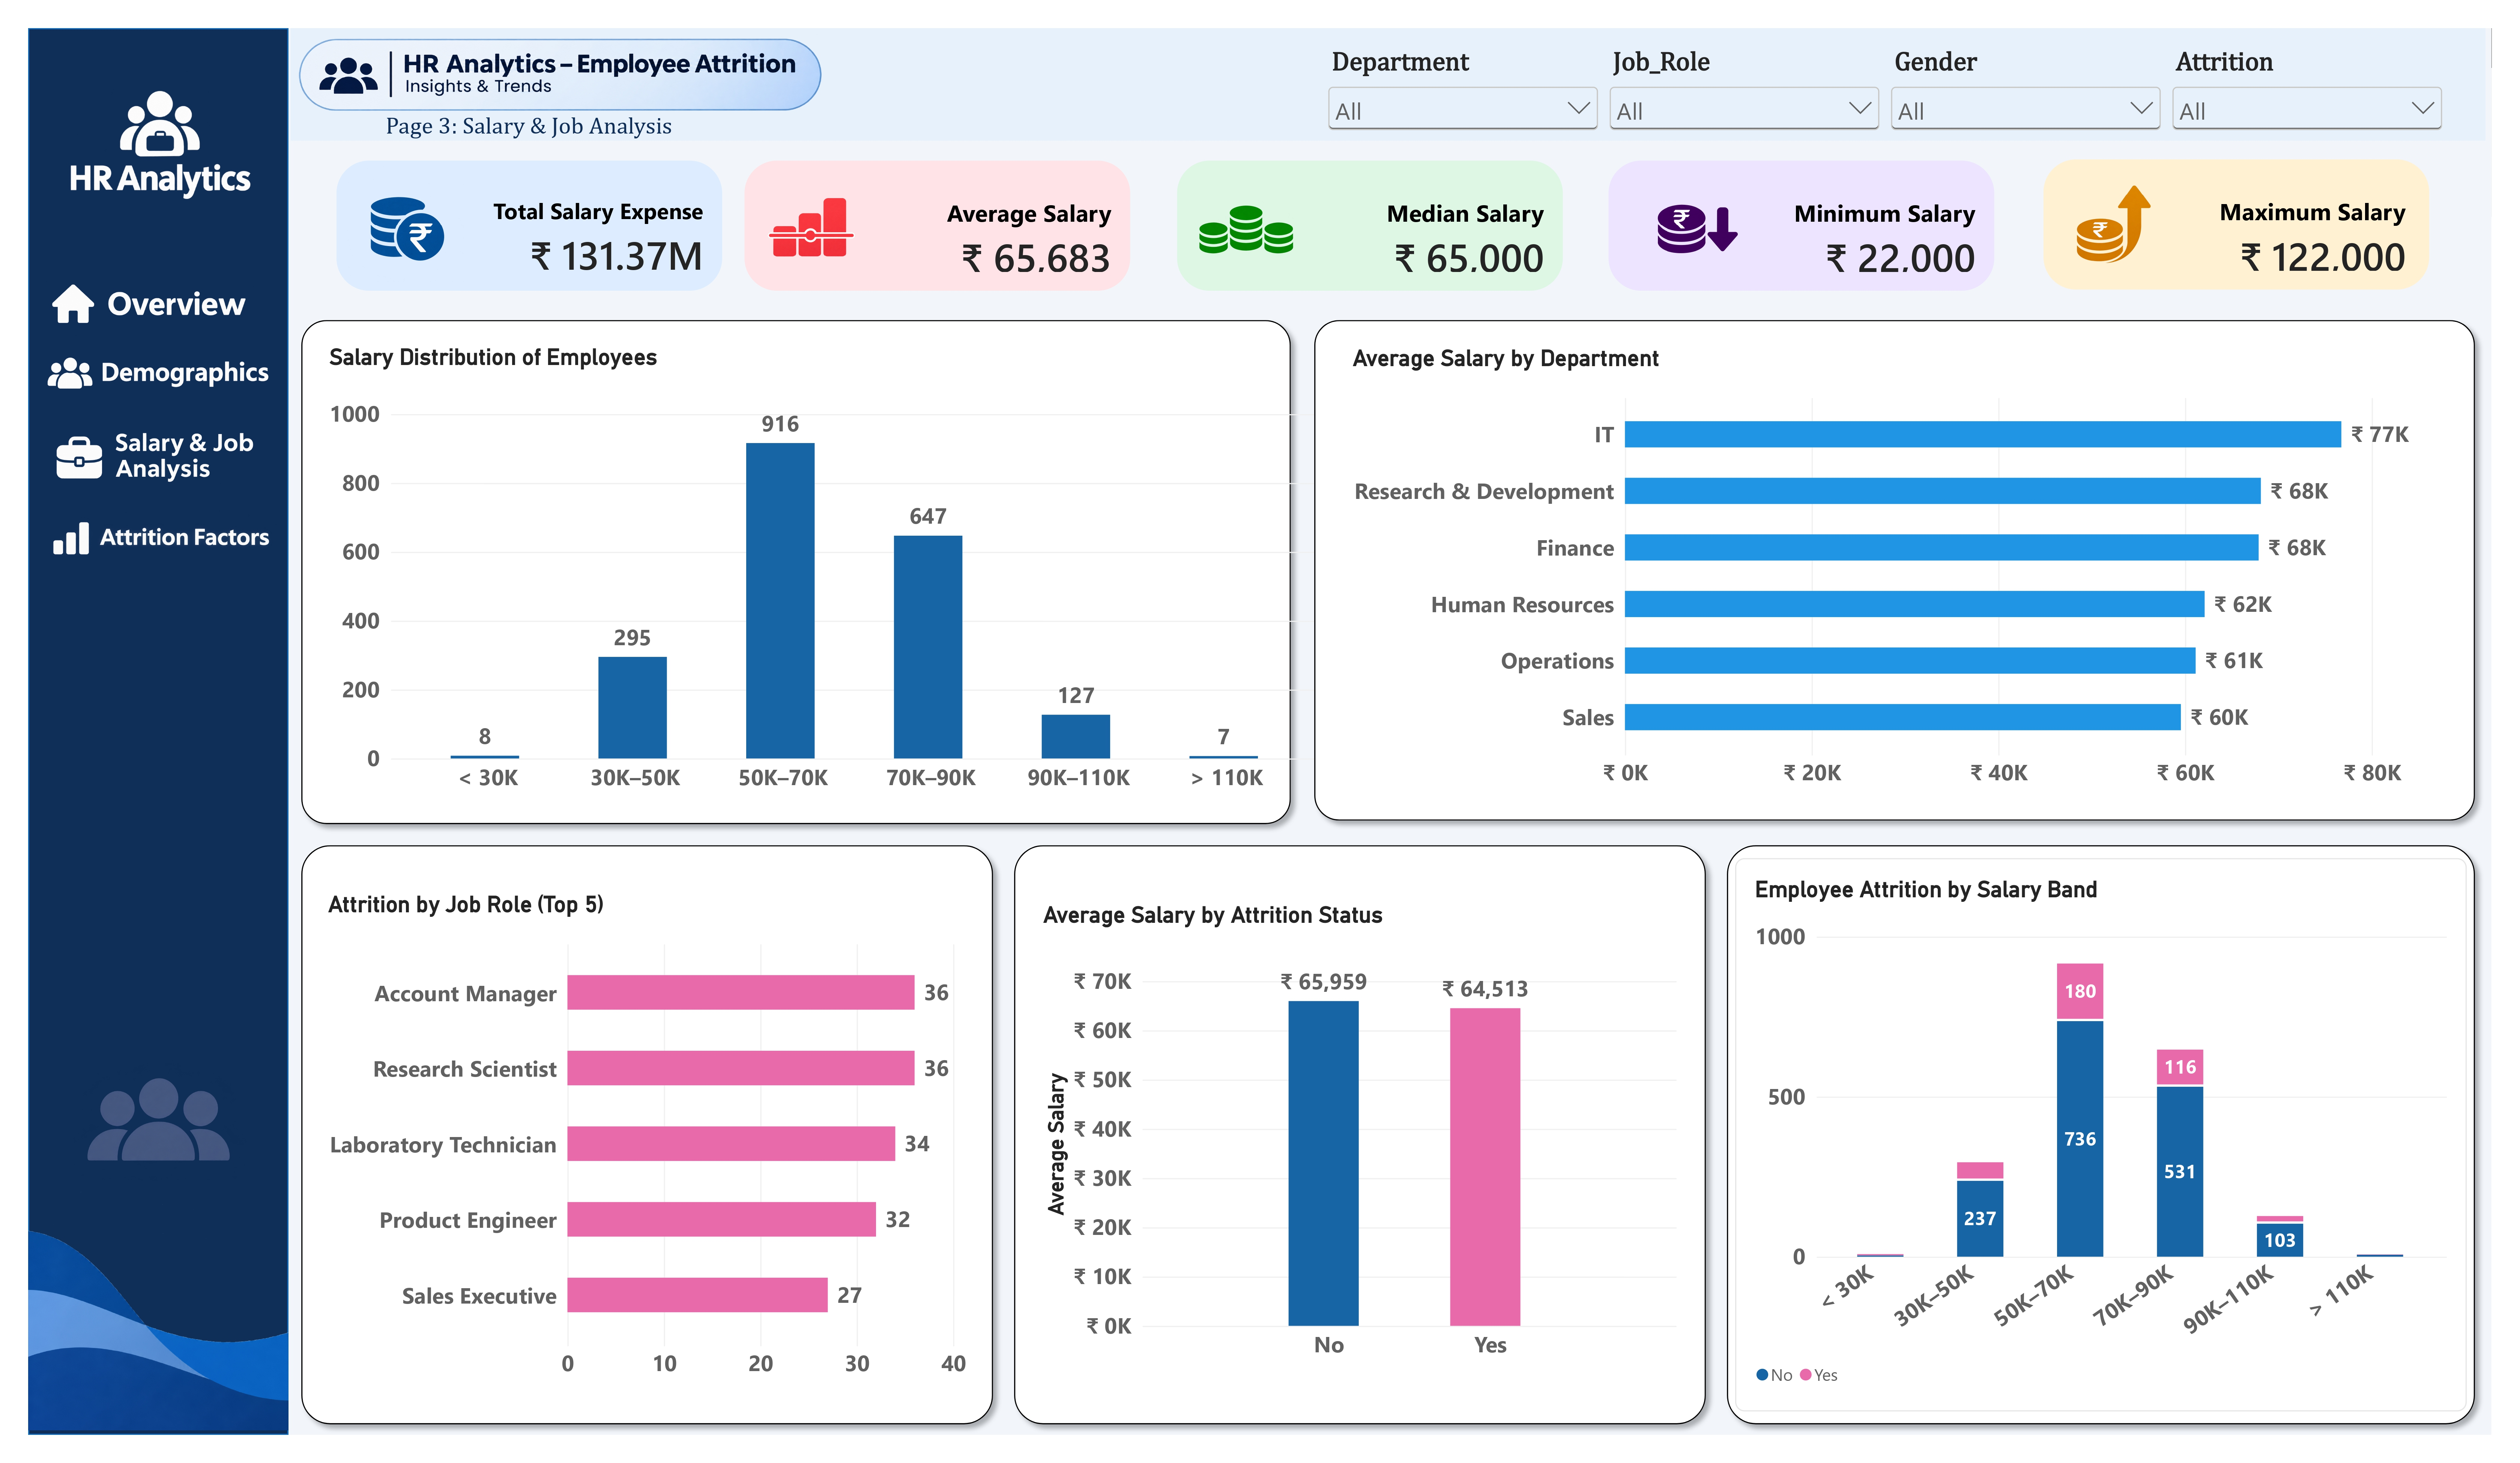

Layout of this report page (visuals, bound fields, positions):
{"tool":"powerbi","page":{"name":"Salary & Job Analysis","canvas":[2101,1200],"ordinal":2},"visuals":[{"type":"shape","box":[0,0,222,1200],"z":0,"group":"g1"},{"type":"shape","box":[224,0,1872,96],"z":0},{"type":"shape","box":[1719.6,112,328.5,111.1],"z":0,"group":"g14"},{"type":"shape","box":[263.5,112.9,328.5,111.1],"z":0,"group":"g5"},{"type":"shape","box":[611.6,112.9,328.5,111.1],"z":0,"group":"g9"},{"type":"shape","box":[980.1,112.9,328.5,111.1],"z":0,"group":"g10"},{"type":"shape","box":[1348.7,112.9,328.5,111.1],"z":0,"group":"g12"},{"type":"image","box":[0,200,222.5,70],"z":0,"group":"g8"},{"type":"shape","box":[1088,240,1008,445],"z":0,"group":"g16"},{"type":"image","box":[226,4,456,72],"z":1000},{"type":"image","box":[0,8.7,224,173.3],"z":1000,"group":"g1"},{"type":"cardVisual","fields":{"Data":["HR_Employee_Data.Maximum Salary"]},"box":[1716.6,127.9,327.6,79.4],"z":1000,"group":"g14"},{"type":"cardVisual","fields":{"Data":["HR_Employee_Data.Average Salary"]},"box":[681.9,128.8,258.1,79.4],"z":1000,"group":"g9"},{"type":"cardVisual","fields":{"Data":["HR_Employee_Data.Median Salary"]},"box":[1027,128.8,281.5,79.4],"z":1000,"group":"g10"},{"type":"cardVisual","fields":{"Data":["HR_Employee_Data.Minimum Salary"]},"box":[1419,128.8,258.1,79.4],"z":1000,"group":"g12"},{"type":"cardVisual","fields":{"Data":["HR_Employee_Data.Total Salary Expense"]},"box":[272,128.9,320,96],"z":1000,"group":"g5"},{"type":"clusteredBarChart","title":"Average Salary by Department","fields":{"Category":["HR_Employee_Data.Department"],"Y":["HR_Employee_Data.Average Salary"]},"box":[1114.2,255.9,957.6,413.2],"z":1000,"group":"g16"},{"type":"image","box":[0,260,222.5,70],"z":1000,"group":"g8"},{"type":"textbox","title":"Page 3: Salary & Job Analysis","box":[305,73,260,24],"z":2000},{"type":"image","box":[1696.1,117,164.2,100],"z":2000,"group":"g14"},{"type":"image","box":[240,118,164.2,100],"z":2000,"group":"g5"},{"type":"image","box":[1341.2,118,164.2,100],"z":2000,"group":"g12"},{"type":"image","box":[588.1,119,164.2,100],"z":2000,"group":"g9"},{"type":"image","box":[956.6,119,164.2,100],"z":2000,"group":"g10"},{"type":"image","box":[0,330,222.5,70],"z":2000,"group":"g8"},{"type":"image","box":[0,848,224,160],"z":2000,"group":"g1"},{"type":"group","id":"g1","title":"Group 2","box":[0,0,224,1200],"z":3000},{"type":"slicer","fields":{"Values":["HR_Employee_Data.Department"]},"box":[1104,16,240,96],"z":3000,"group":"g7"},{"type":"image","box":[0,400,222.5,70],"z":3000,"group":"g8"},{"type":"slicer","fields":{"Values":["HR_Employee_Data.Job_Role"]},"box":[1344,16,240,96],"z":4000,"group":"g7"},{"type":"group","id":"g2","title":"Group 6","box":[240,112,1808,112.9],"z":4000},{"type":"group","id":"g3","title":"Group 5","box":[224,688,608,512],"z":4000,"group":"g6"},{"type":"image","box":[0,896,222,304],"z":4500,"group":"g1"},{"type":"slicer","fields":{"Values":["HR_Employee_Data.Gender"]},"box":[1584,16,240,96],"z":5000,"group":"g7"},{"type":"group","id":"g4","title":"Group 7","box":[224,240,1872,448],"z":5000},{"type":"slicer","fields":{"Values":["HR_Employee_Data.Attrition"]},"box":[1824,16,240,96],"z":6000,"group":"g7"},{"type":"shape","box":[1440,688,656,512],"z":6000,"group":"g13"},{"type":"group","id":"g5","title":"Group 1","box":[240,112.9,352,112],"z":7000,"group":"g2"},{"type":"group","id":"g6","title":"Group 11","box":[224,688,1872,512],"z":7000},{"type":"group","id":"g7","title":"Group 9","box":[1104,16,960,96],"z":7001},{"type":"group","id":"g8","title":"Group 10","box":[0,200,222.5,270],"z":7002},{"type":"group","id":"g9","title":"Group 1","box":[588.1,112.9,351.9,111.1],"z":8000,"group":"g2"},{"type":"columnChart","title":"Employee Attrition by Salary Band","fields":{"Category":["HR_Employee_Data.Salary Band"],"Series":["HR_Employee_Data.Attrition"],"Y":["HR_Employee_Data.Total Employees"]},"box":[1456,708.5,624,471],"z":8000,"group":"g13"},{"type":"group","id":"g10","title":"Group 1","box":[956.6,112.9,351.9,111.1],"z":9000,"group":"g2"},{"type":"group","id":"g11","title":"Group 8","box":[832,688,608,512],"z":9000,"group":"g6"},{"type":"group","id":"g12","title":"Group 1","box":[1341.2,112.9,335.9,111.1],"z":10000,"group":"g2"},{"type":"group","id":"g13","title":"Group 10","box":[1440,688,656,512],"z":10001,"group":"g6"},{"type":"shape","box":[832,688,608,512],"z":10250,"group":"g11"},{"type":"clusteredColumnChart","title":"Average Salary by Attrition Status","fields":{"Category":["HR_Employee_Data.Attrition"],"Y":["HR_Employee_Data.Average Salary"]},"box":[850.4,730.7,571.2,426.7],"z":10500,"group":"g11"},{"type":"group","id":"g14","title":"Group 1","box":[1696.1,112,351.9,111.1],"z":11000,"group":"g2"},{"type":"shape","box":[224,240,861.5,448],"z":12500,"group":"g15"},{"type":"group","id":"g15","title":"Group 3","box":[224,240,896,448],"z":13000,"group":"g4"},{"type":"clusteredColumnChart","title":"Salary Distribution of Employees","fields":{"Category":["HR_Employee_Data.Salary Band"],"Y":["HR_Employee_Data.Total Employees"]},"box":[241.2,255.4,878.8,417.1],"z":13000,"group":"g15"},{"type":"shape","box":[224,688,608,512],"z":14000,"group":"g3"},{"type":"group","id":"g16","title":"Group 4","box":[1088,240,1008,448],"z":15000,"group":"g4"},{"type":"clusteredBarChart","title":"Attrition by Job Role (Top 5)","fields":{"Category":["HR_Employee_Data.Job_Role"],"Y":["HR_Employee_Data.Attrition Count"]},"box":[239.6,722.5,576.8,450.6],"z":16000,"group":"g3"}]}

Visuals, with their boxes on the page's 2101x1200 design canvas (x1, y1, x2, y2). These are canvas units, not pixel positions in the 2520x1463 screenshot, which may show the page scaled, cropped or inside an application window:
shape: region(0, 0, 222, 1200)
shape: region(224, 0, 2096, 96)
shape: region(1720, 112, 2048, 223)
shape: region(264, 113, 592, 224)
shape: region(612, 113, 940, 224)
shape: region(980, 113, 1309, 224)
shape: region(1349, 113, 1677, 224)
image: region(0, 200, 222, 270)
shape: region(1088, 240, 2096, 685)
image: region(226, 4, 682, 76)
image: region(0, 9, 224, 182)
cardVisual - HR_Employee_Data.Maximum Salary: region(1717, 128, 2044, 207)
cardVisual - HR_Employee_Data.Average Salary: region(682, 129, 940, 208)
cardVisual - HR_Employee_Data.Median Salary: region(1027, 129, 1308, 208)
cardVisual - HR_Employee_Data.Minimum Salary: region(1419, 129, 1677, 208)
cardVisual - HR_Employee_Data.Total Salary Expense: region(272, 129, 592, 225)
"Average Salary by Department" clusteredBarChart: region(1114, 256, 2072, 669)
image: region(0, 260, 222, 330)
"Page 3: Salary & Job Analysis" textbox: region(305, 73, 565, 97)
image: region(1696, 117, 1860, 217)
image: region(240, 118, 404, 218)
image: region(1341, 118, 1505, 218)
image: region(588, 119, 752, 219)
image: region(957, 119, 1121, 219)
image: region(0, 330, 222, 400)
image: region(0, 848, 224, 1008)
"Group 2" group: region(0, 0, 224, 1200)
slicer - HR_Employee_Data.Department: region(1104, 16, 1344, 112)
image: region(0, 400, 222, 470)
slicer - HR_Employee_Data.Job_Role: region(1344, 16, 1584, 112)
"Group 6" group: region(240, 112, 2048, 225)
"Group 5" group: region(224, 688, 832, 1200)
image: region(0, 896, 222, 1200)
slicer - HR_Employee_Data.Gender: region(1584, 16, 1824, 112)
"Group 7" group: region(224, 240, 2096, 688)
slicer - HR_Employee_Data.Attrition: region(1824, 16, 2064, 112)
shape: region(1440, 688, 2096, 1200)
"Group 1" group: region(240, 113, 592, 225)
"Group 11" group: region(224, 688, 2096, 1200)
"Group 9" group: region(1104, 16, 2064, 112)
"Group 10" group: region(0, 200, 222, 470)
"Group 1" group: region(588, 113, 940, 224)
"Employee Attrition by Salary Band" columnChart: region(1456, 708, 2080, 1180)
"Group 1" group: region(957, 113, 1308, 224)
"Group 8" group: region(832, 688, 1440, 1200)
"Group 1" group: region(1341, 113, 1677, 224)
"Group 10" group: region(1440, 688, 2096, 1200)
shape: region(832, 688, 1440, 1200)
"Average Salary by Attrition Status" clusteredColumnChart: region(850, 731, 1422, 1157)
"Group 1" group: region(1696, 112, 2048, 223)
shape: region(224, 240, 1086, 688)
"Group 3" group: region(224, 240, 1120, 688)
"Salary Distribution of Employees" clusteredColumnChart: region(241, 255, 1120, 672)
shape: region(224, 688, 832, 1200)
"Group 4" group: region(1088, 240, 2096, 688)
"Attrition by Job Role (Top 5)" clusteredBarChart: region(240, 722, 816, 1173)
